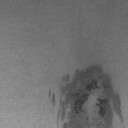iron sheet ash: (56, 64, 124, 128), (48, 88, 56, 107)
